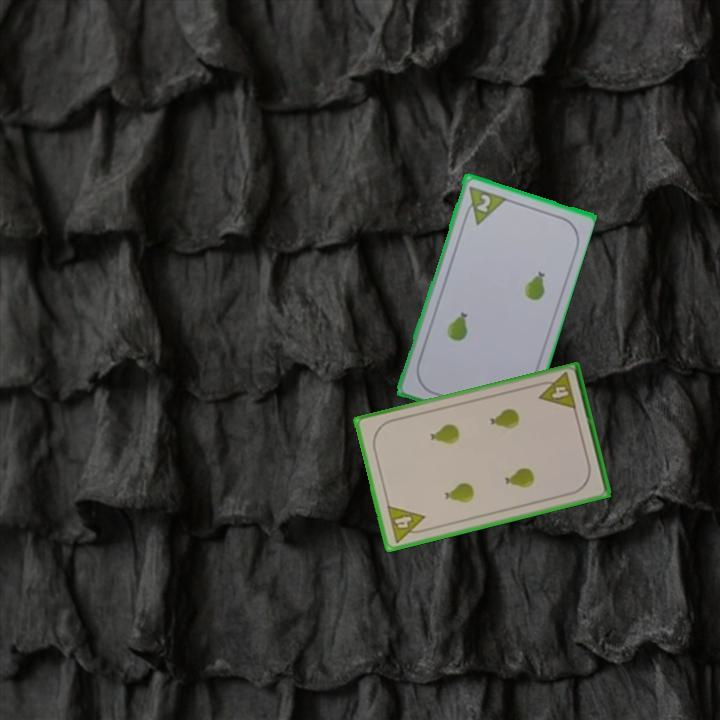2p: (473, 190, 494, 215)
4p: (383, 502, 431, 546), (533, 369, 579, 413)
